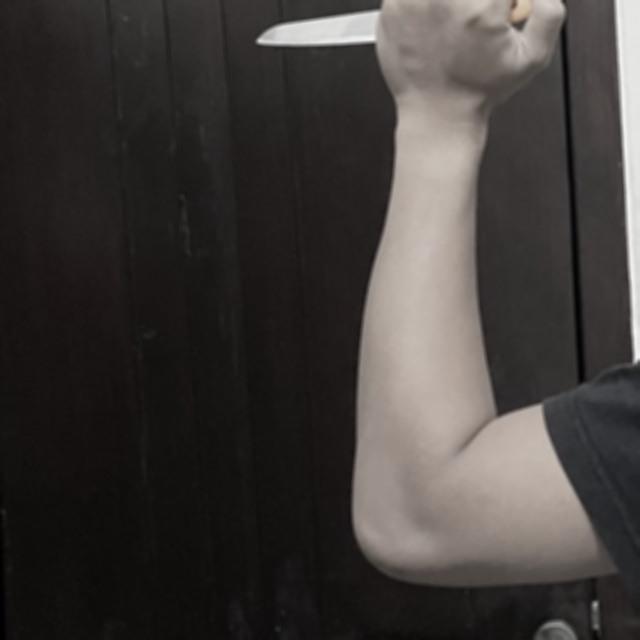Sharp-Object: (252, 0, 555, 49)
